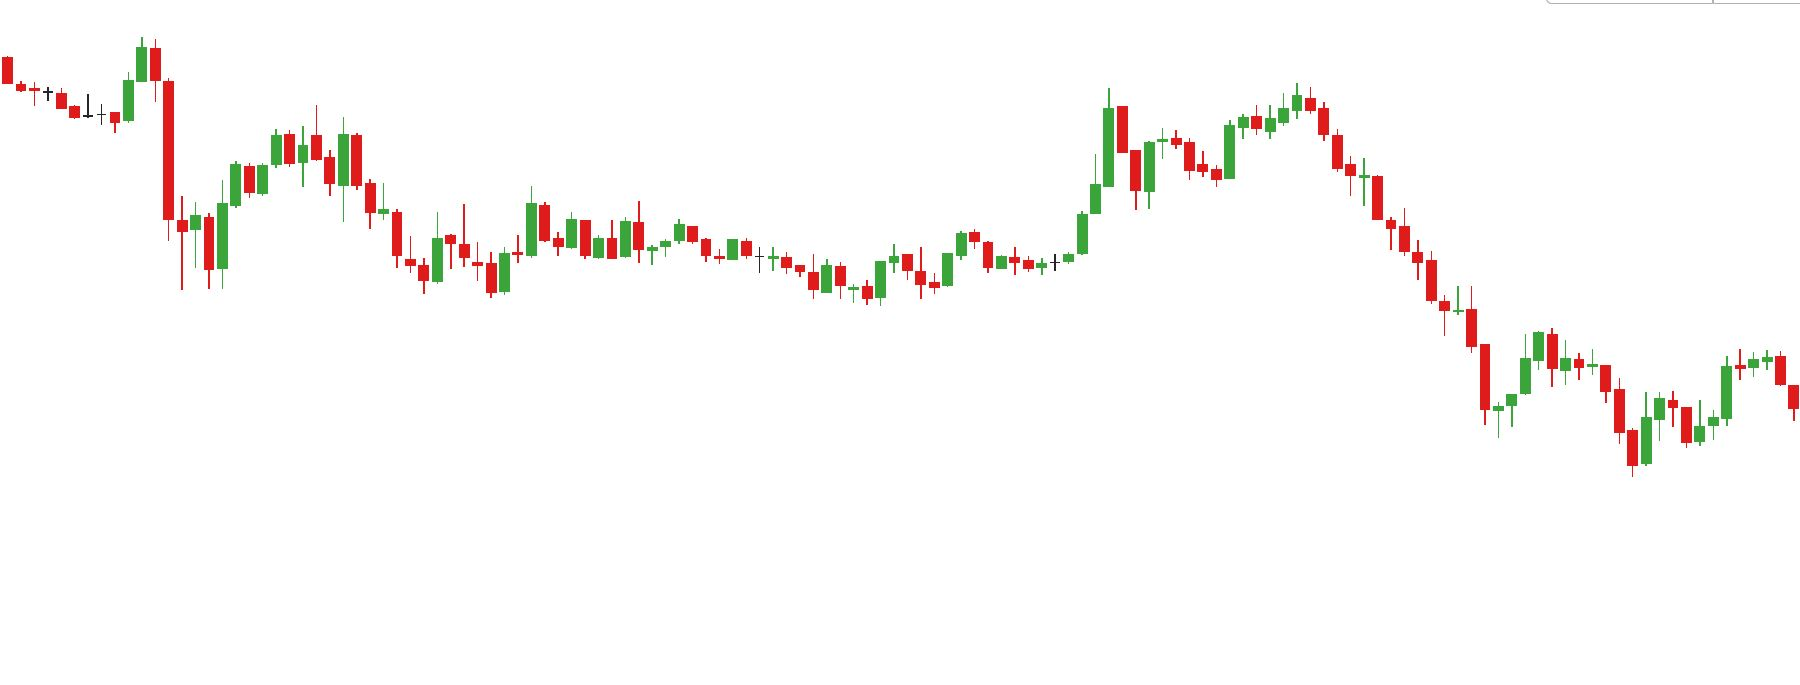buy: (1493, 357, 1654, 476)
